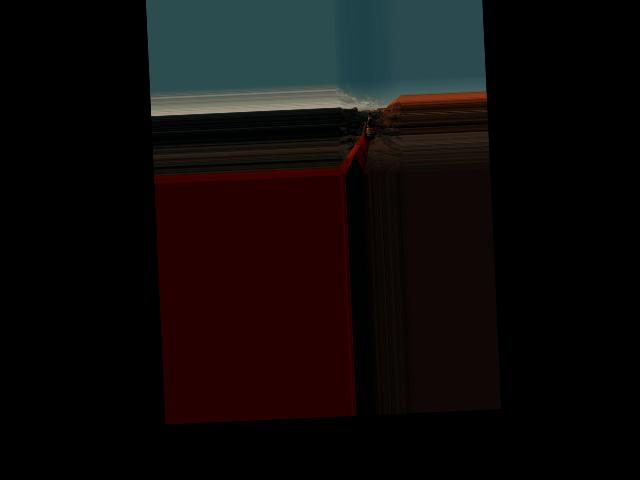beer: (364, 112, 375, 139)
